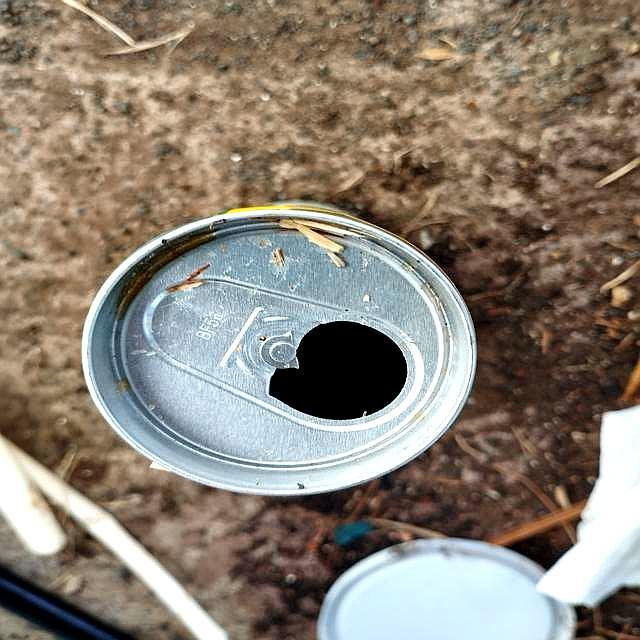Non-biodegradable: (83, 203, 479, 499)
